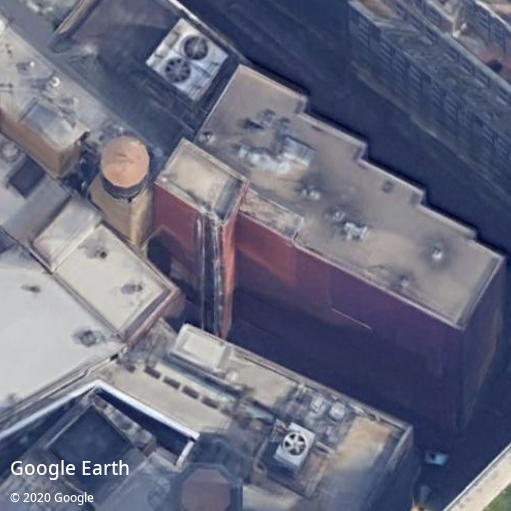Vent: (165, 58, 191, 83), (183, 36, 208, 60), (283, 431, 306, 456)
